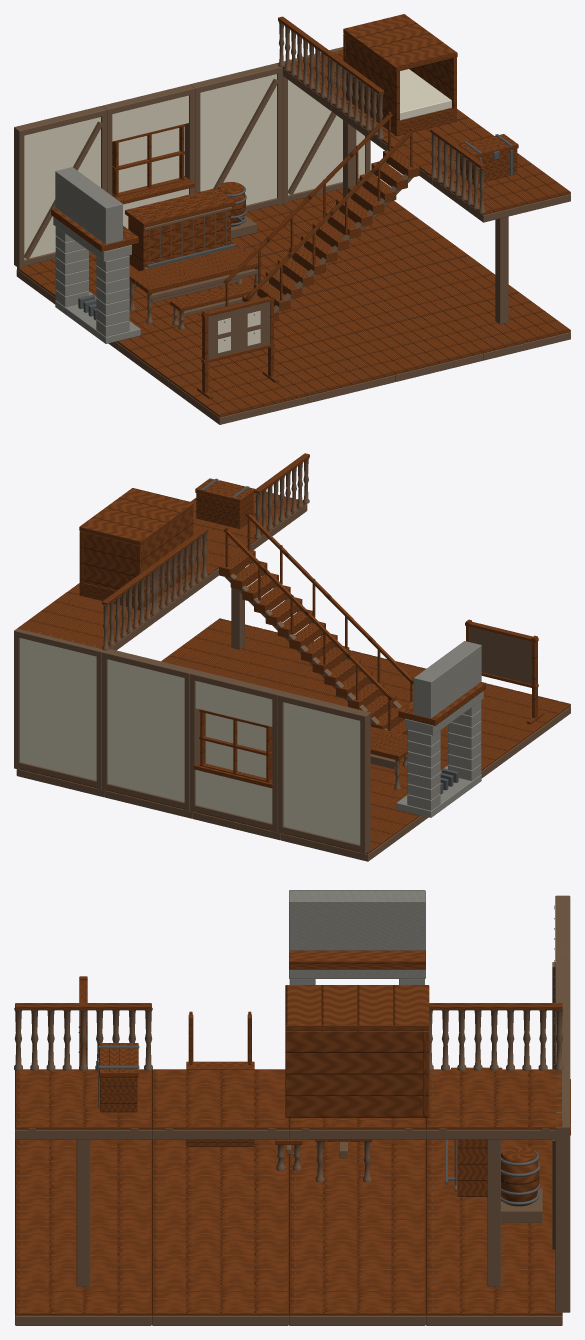
The model's file is guild-tavern.glb.
3 views of the same model, one above another, from view 1: azimuth 30°, elevation 25°; view 2: azimuth 150°, elevation 25°; view 3: azimuth 270°, elevation 25° (orthographic). The views are drawn at different scales.
Parts seen in each view (by area): view 1: 029-fireplace-wall/0, 026-staircase-run/0, 033-box-bed/0, 018-timber-wall-straight/2, 016-timber-wall-straight/2, 011-floor-tile/1, 019-timber-wall-straight/2, 007-floor-tile/1, 010-floor-tile/1, 003-floor-tile/1, 015-floor-tile/1, 013-floor-tile/1 (+45 smaller); view 2: 026-staircase-run/0, 029-fireplace-wall/0, 018-timber-wall-straight/2, 016-timber-wall-straight/2, 019-timber-wall-straight/2, 033-box-bed/0, 017-window-bay/2, 016-timber-wall-straight/0, 015-floor-tile/1, 020-mezzanine-floor-tile/1, 017-window-bay/0, 018-timber-wall-straight/0 (+28 smaller); view 3: 033-box-bed/0, 029-fireplace-wall/0, 013-floor-tile/1, 014-floor-tile/1, 022-mezzanine-floor-tile/1, 009-floor-tile/1, 010-floor-tile/1, 020-mezzanine-floor-tile/1, 015-floor-tile/1, 012-floor-tile/1, 011-floor-tile/1, 006-floor-tile/1 (+33 smaller).
Part boxes in pixels (x1=…): 029-fireplace-wall/0: x1=53, y1=167, x2=140, y2=343; 026-staircase-run/0: x1=223, y1=111, x2=419, y2=321; 033-box-bed/0: x1=343, y1=14, x2=457, y2=135; 018-timber-wall-straight/2: x1=200, y1=74, x2=276, y2=205; 016-timber-wall-straight/2: x1=24, y1=117, x2=100, y2=259; 011-floor-tile/1: x1=345, y1=314, x2=482, y2=374; 019-timber-wall-straight/2: x1=288, y1=80, x2=364, y2=195; 007-floor-tile/1: x1=257, y1=336, x2=394, y2=395; 010-floor-tile/1: x1=294, y1=277, x2=431, y2=335; 003-floor-tile/1: x1=169, y1=357, x2=306, y2=417; 015-floor-tile/1: x1=433, y1=293, x2=570, y2=353; 013-floor-tile/1: x1=344, y1=218, x2=468, y2=277; 026-staircase-run/0: x1=219, y1=511, x2=413, y2=735; 029-fireplace-wall/0: x1=396, y1=641, x2=483, y2=817; 018-timber-wall-straight/2: x1=107, y1=659, x2=184, y2=801; 016-timber-wall-straight/2: x1=283, y1=702, x2=360, y2=844; 019-timber-wall-straight/2: x1=20, y1=638, x2=96, y2=780; 033-box-bed/0: x1=79, y1=488, x2=193, y2=609; 017-window-bay/2: x1=195, y1=681, x2=272, y2=823; 016-timber-wall-straight/0: x1=277, y1=691, x2=370, y2=853; 015-floor-tile/1: x1=169, y1=618, x2=294, y2=676; 020-mezzanine-floor-tile/1: x1=17, y1=591, x2=153, y2=648; 017-window-bay/0: x1=190, y1=670, x2=282, y2=832; 018-timber-wall-straight/0: x1=102, y1=648, x2=194, y2=811; 033-box-bed/0: x1=285, y1=985, x2=429, y2=1117; 029-fireplace-wall/0: x1=289, y1=890, x2=425, y2=984; 013-floor-tile/1: x1=289, y1=1255, x2=425, y2=1315; 014-floor-tile/1: x1=152, y1=1255, x2=288, y2=1315; 022-mezzanine-floor-tile/1: x1=152, y1=1069, x2=288, y2=1129; 009-floor-tile/1: x1=289, y1=1197, x2=425, y2=1255; 010-floor-tile/1: x1=152, y1=1197, x2=288, y2=1255; 020-mezzanine-floor-tile/1: x1=426, y1=1069, x2=562, y2=1129; 015-floor-tile/1: x1=15, y1=1255, x2=151, y2=1315; 012-floor-tile/1: x1=426, y1=1255, x2=562, y2=1315; 011-floor-tile/1: x1=15, y1=1197, x2=151, y2=1255; 006-floor-tile/1: x1=152, y1=1140, x2=288, y2=1197.
Bounding box in the file's own units: 8.38 × 4.71 × 8.13.
Materials: 5 (2 with a texture image).
